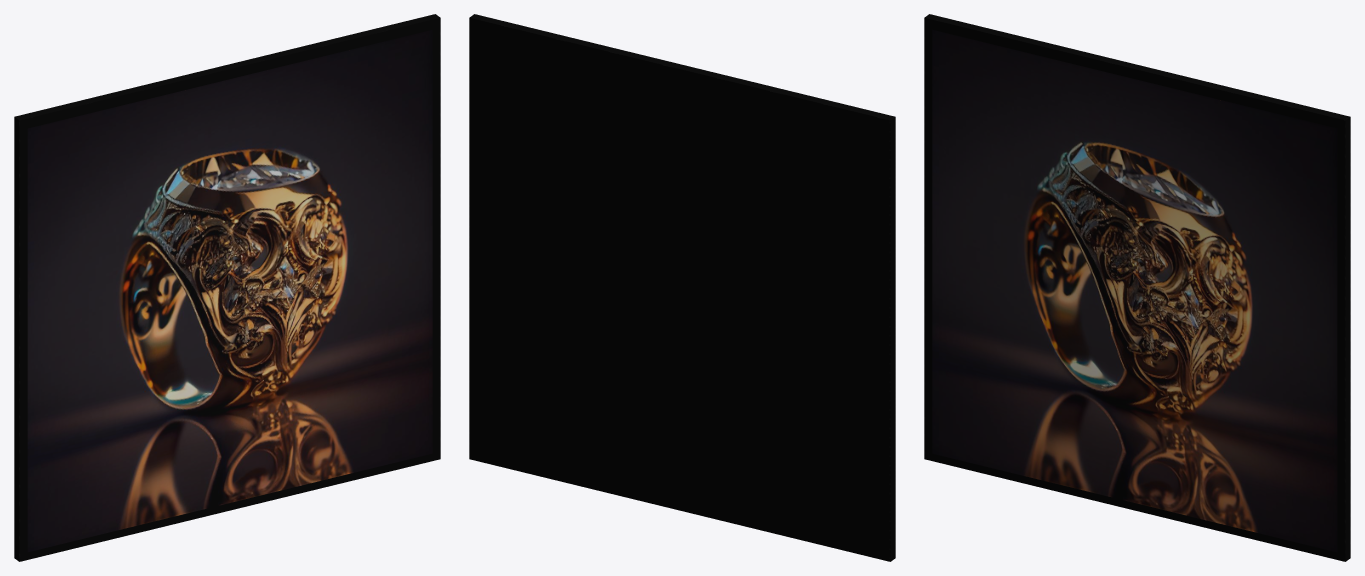
Rendered from Ring1.glb.
3 views of the same model, side by side, from view 1: azimuth 30°, elevation 25°; view 2: azimuth 150°, elevation 25°; view 3: azimuth 330°, elevation 25° (orthographic).
Visible parts, largest first — view 1: mesh_id1, node_id27; view 2: node_id27; view 3: mesh_id1, node_id27.
Boxes of the visible parts, bbox=[...] form: mesh_id1: bbox=[27, 30, 432, 552]; node_id27: bbox=[14, 14, 440, 561]; node_id27: bbox=[469, 14, 895, 561]; mesh_id1: bbox=[932, 30, 1337, 552]; node_id27: bbox=[924, 14, 1350, 561].
Bounding box in the file's own units: 0.9899 × 0.9918 × 0.021.
Materials: 2 (2 with a texture image).
